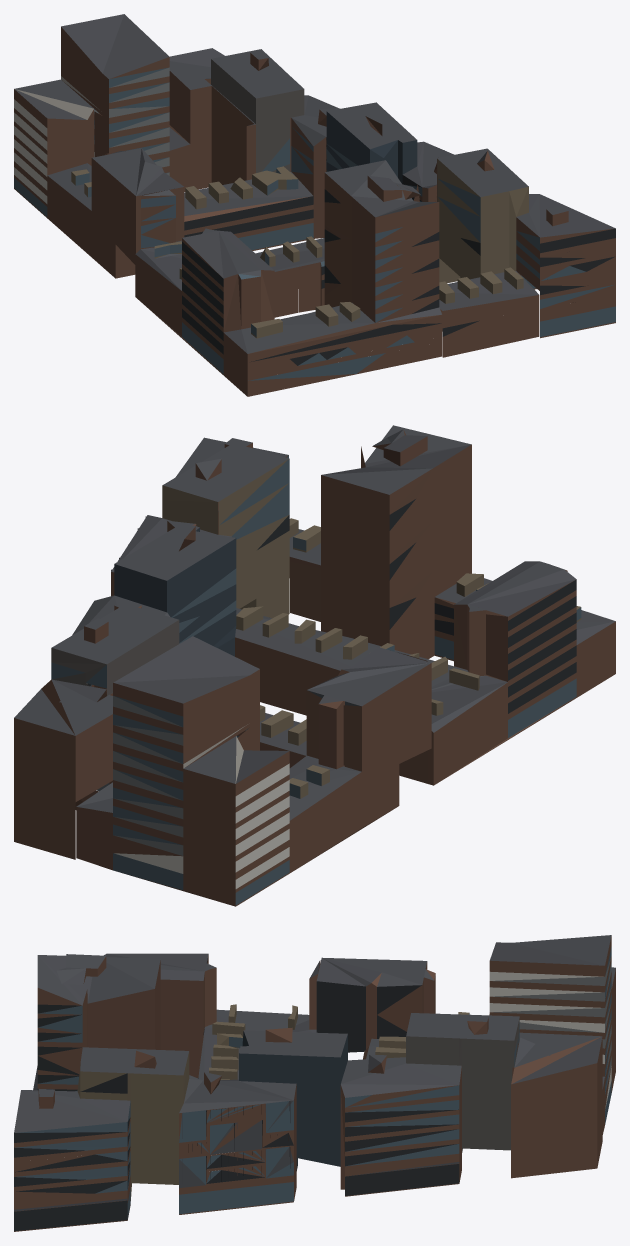
The model's file is westerdok-748.lod2.glb.
3 views of the same model, one above another, from view 1: azimuth 30°, elevation 25°; view 2: azimuth 150°, elevation 25°; view 3: azimuth 270°, elevation 25° (orthographic). The views are drawn at different scales.
Parts seen in each view (by area): view 1: lod2; view 2: lod2; view 3: lod2.
Boxes of the visible parts, box(x1,y1,x2,y2) form: lod2: box(14, 14, 615, 396); lod2: box(14, 425, 615, 906); lod2: box(14, 935, 615, 1231).
Size of the model in its own units: 84.95 by 38.01 by 120.
